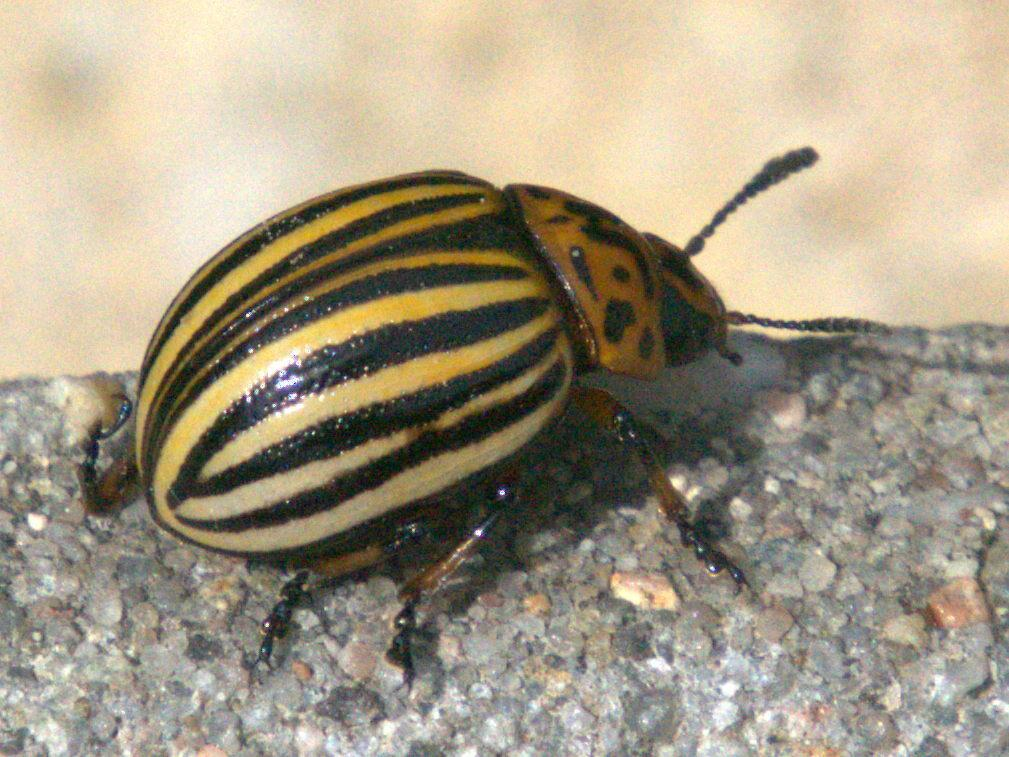potato_beetle: (1, 79, 939, 710)
